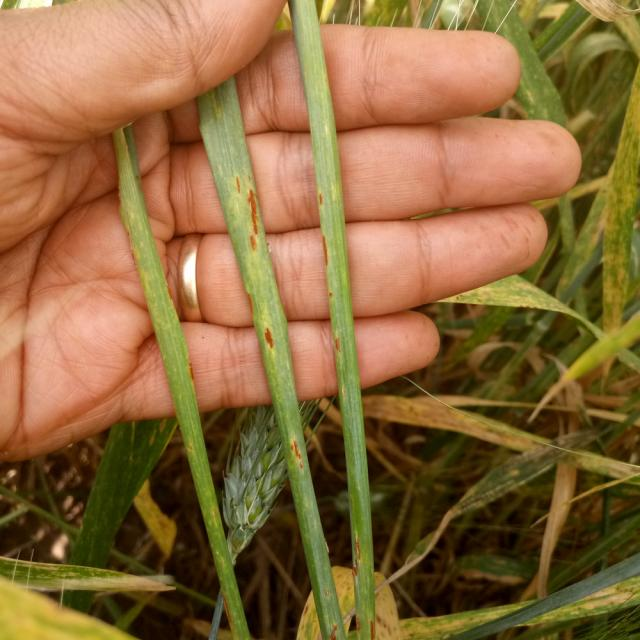wheat-stemrust: (287, 0, 375, 625), (195, 81, 309, 519)
